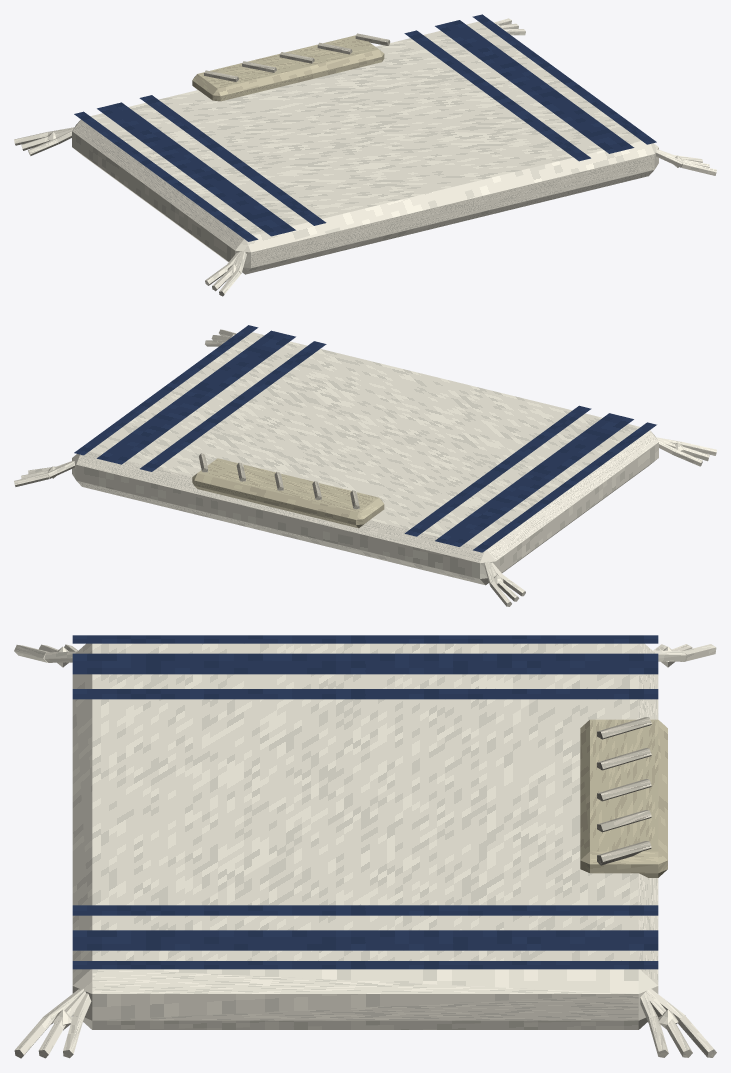
The model's file is tallit_gadol.glb.
3 views of the same model, one above another, from view 1: azimuth 30°, elevation 25°; view 2: azimuth 150°, elevation 25°; view 3: azimuth 270°, elevation 25° (orthographic). The views are drawn at different scales.
Parts seen in each view (by area): view 1: block_folded prayer shawl, block_woven stripe (×6), block_embroidered neckband; view 2: block_folded prayer shawl, block_woven stripe (×6), block_embroidered neckband; view 3: block_folded prayer shawl, block_woven stripe (×6), block_embroidered neckband.
Boxes of the visible parts, bbox=[...] form: block_folded prayer shawl: bbox=[72, 21, 658, 274]; block_woven stripe (×6): bbox=[74, 14, 656, 241]; block_embroidered neckband: bbox=[192, 35, 384, 101]; block_folded prayer shawl: bbox=[72, 332, 658, 585]; block_woven stripe (×6): bbox=[74, 325, 656, 552]; block_embroidered neckband: bbox=[192, 458, 384, 528]; block_folded prayer shawl: bbox=[72, 643, 658, 1029]; block_woven stripe (×6): bbox=[72, 635, 658, 969]; block_embroidered neckband: bbox=[580, 719, 667, 877].
Bounding box in the file's own units: 0.31 × 0.0307 × 0.2263.
2 materials, 2 textured.
